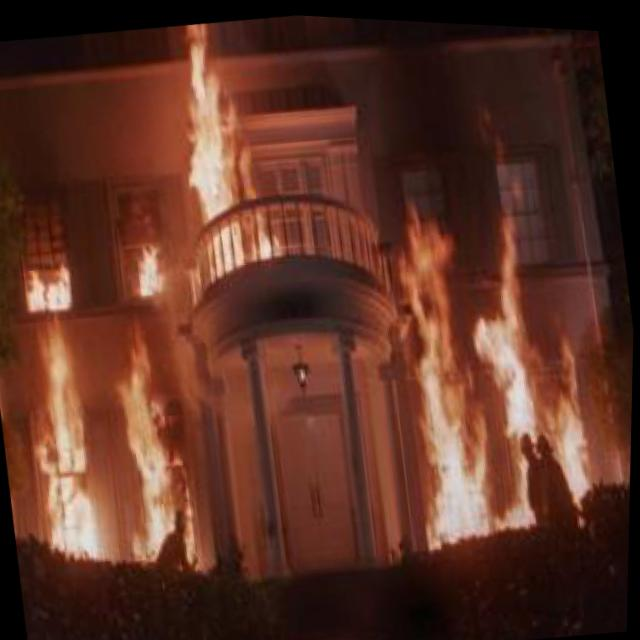Fire: (380, 155, 604, 544), (102, 307, 222, 604), (164, 16, 272, 306), (19, 268, 112, 590), (121, 215, 173, 304)
